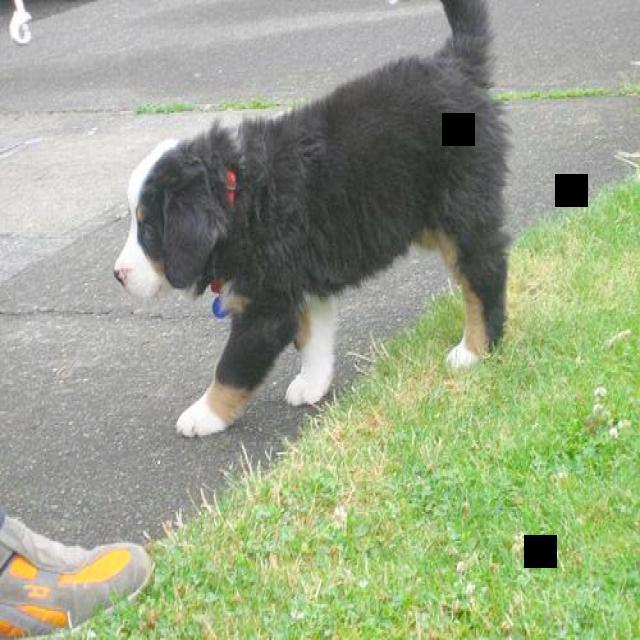puppy-dog: (116, 1, 510, 436)
